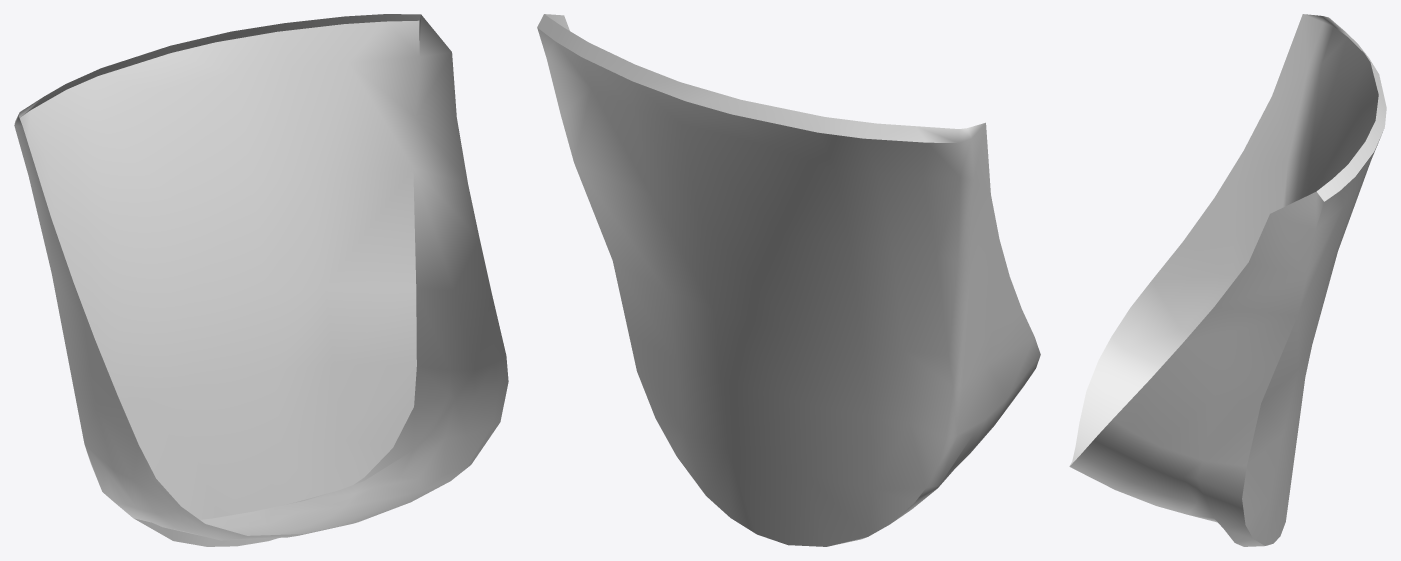
3 renders of one model, left to right at view 1: azimuth 30°, elevation 25°; view 2: azimuth 150°, elevation 25°; view 3: azimuth 270°, elevation 25°, orthographic. The views are drawn at different scales.
Bounding box in the file's own units: 0.0304 × 0.0326 × 0.0218.
1 material, 1 textured.
